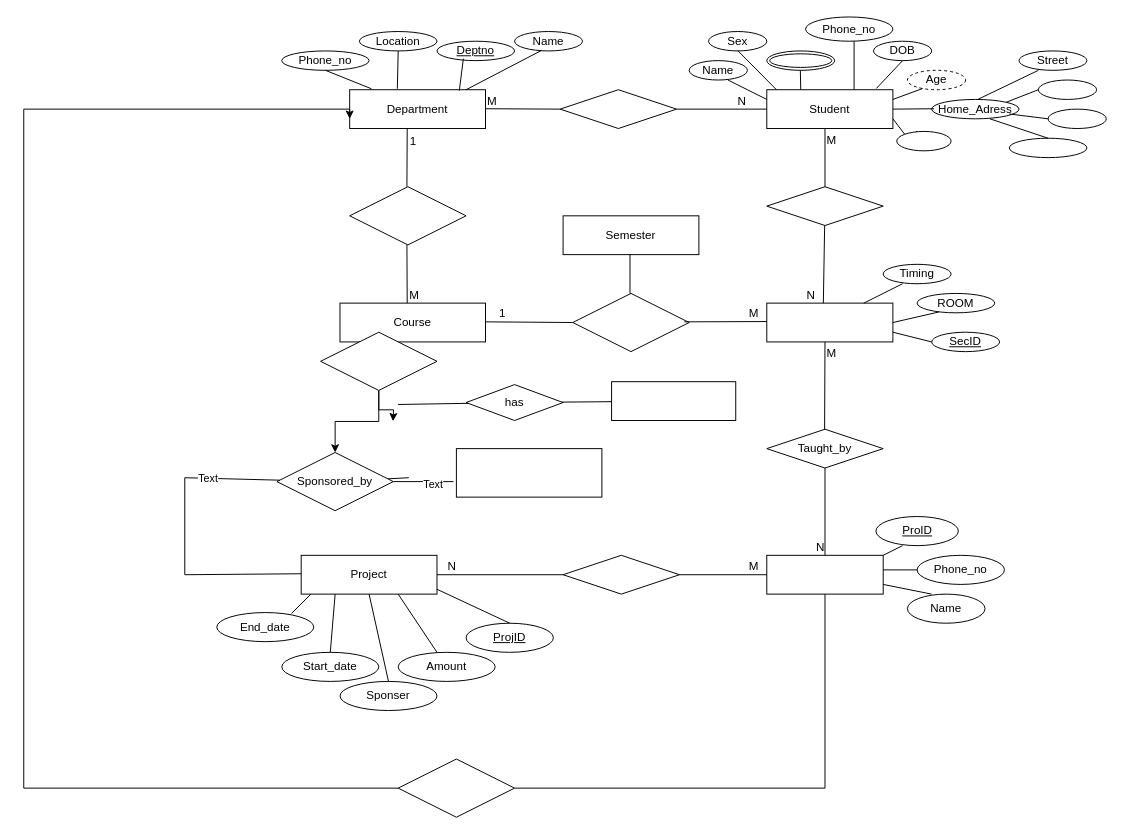
This 1123x834 diagram has some shape labels left out. Each missing label, with the centre of its shape:
Belongs_to: (618,109)
City: (1067,89)
Email: (800,60)
Enroll_into: (824,206)
Funding_Agency: (528,472)
House_no: (1047,147)
Offers: (407,215)
PIN: (1076,118)
prerequisite: (673,400)
Professor: (824,574)
Rollno: (923,140)
Section: (829,322)
Taught_in: (630,322)
undertake: (620,574)
Works_for: (456,787)
